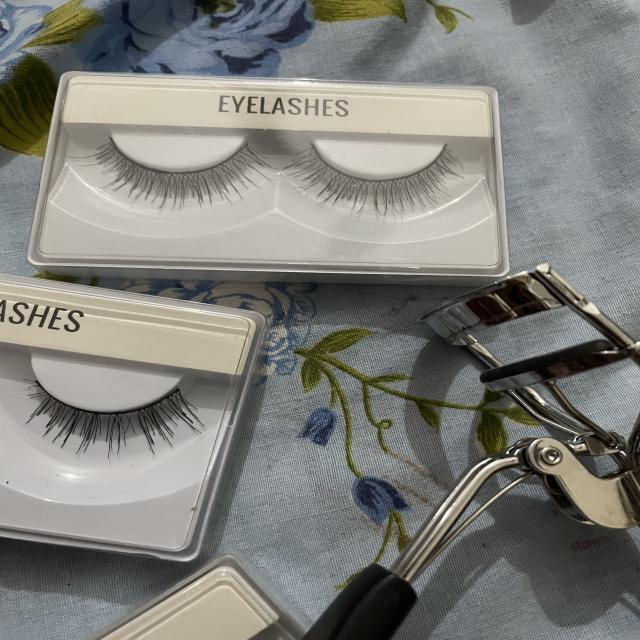eyelash curler: (286, 258, 640, 640), (2, 354, 214, 472), (276, 126, 487, 233), (81, 118, 274, 215)
